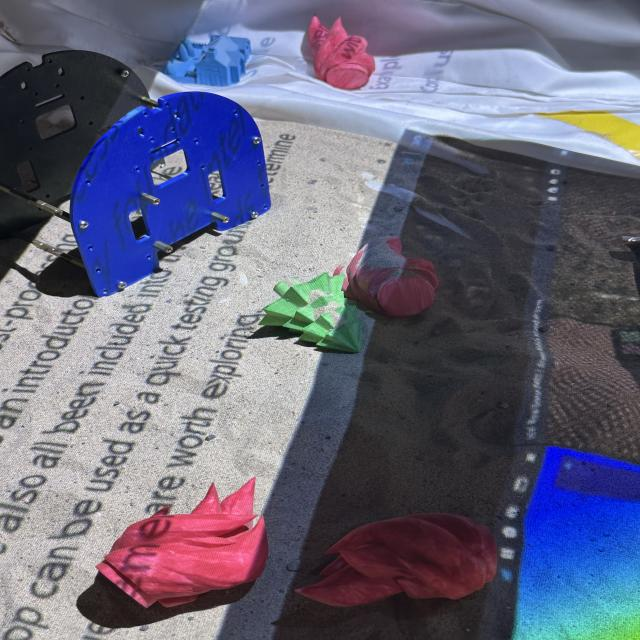fire: (99, 474, 273, 612), (293, 511, 498, 608), (332, 233, 444, 322), (301, 14, 376, 91)
house: (154, 34, 256, 86)
tree: (265, 270, 365, 358)
